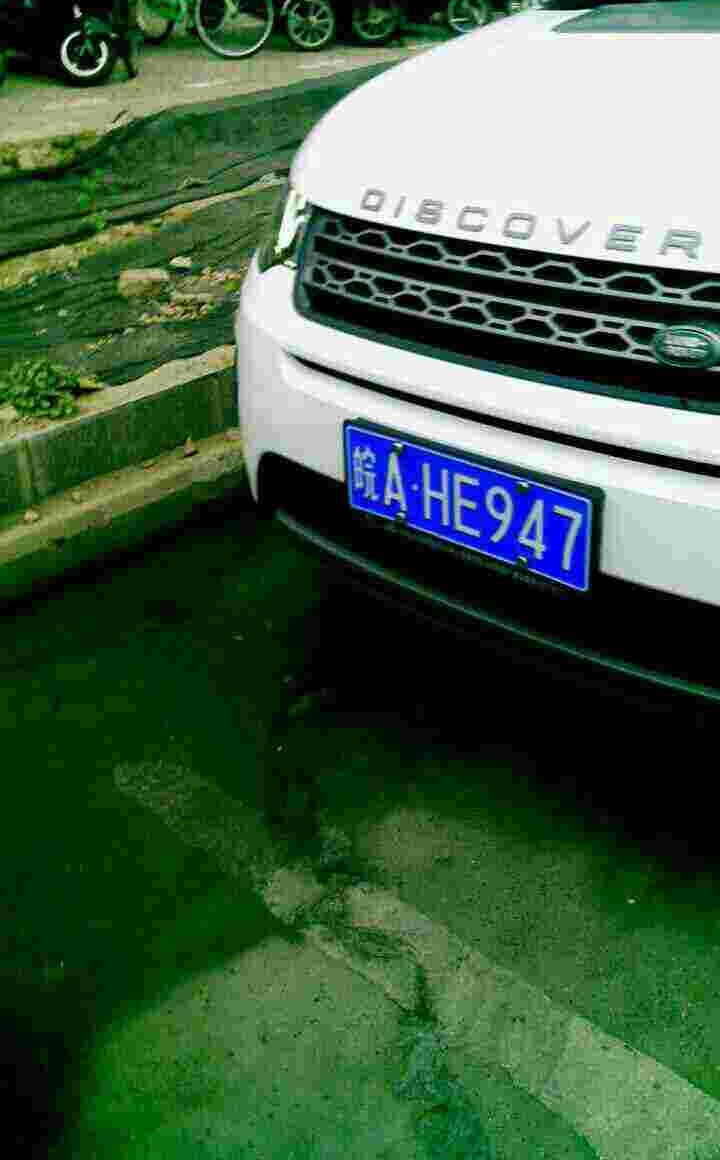license_plate: (332, 415, 601, 587)
